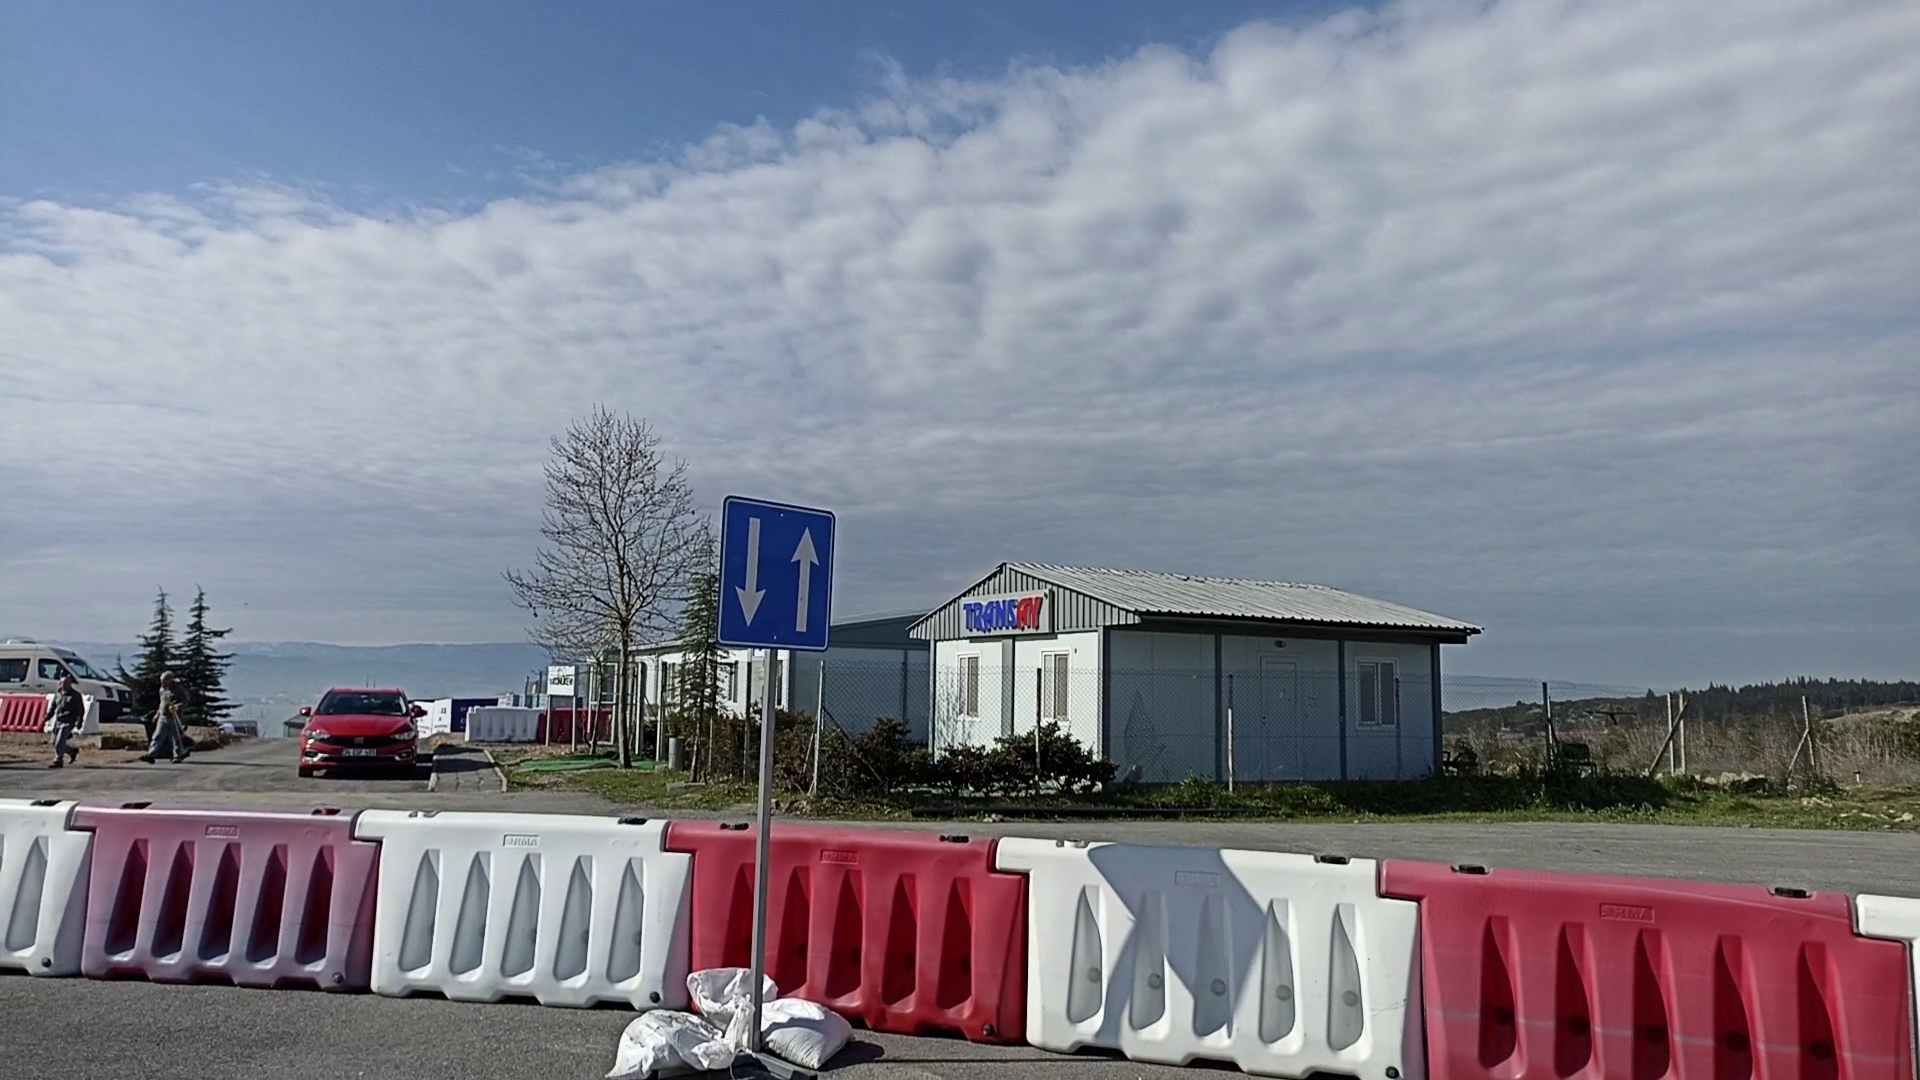oneway: (711, 491, 839, 655)
